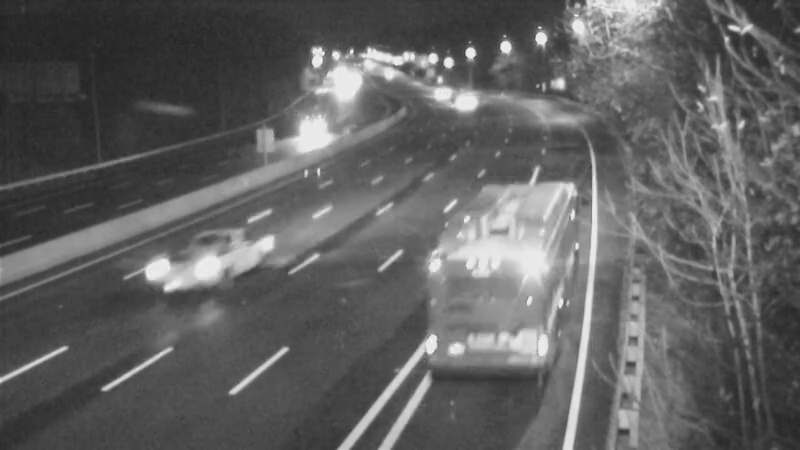vehicle: (436, 228, 516, 308), (150, 226, 230, 306), (415, 68, 465, 118), (434, 78, 484, 128), (285, 108, 335, 158), (317, 63, 367, 113)
